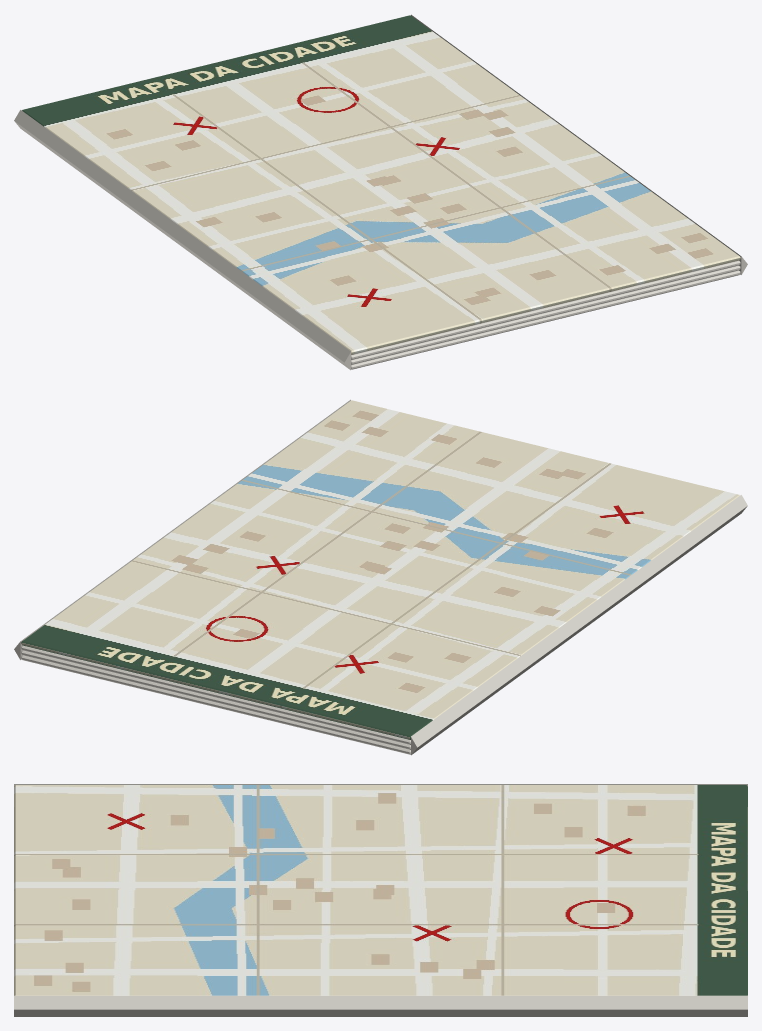
Rendered from mapa_cidade.glb.
3 views of the same model, one above another, from view 1: azimuth 30°, elevation 25°; view 2: azimuth 150°, elevation 25°; view 3: azimuth 270°, elevation 25° (orthographic). The views are drawn at different scales.
Parts seen in each view (by area): view 1: mapa_cidade_mapa_img, mapa_cidade_papel; view 2: mapa_cidade_mapa_img, mapa_cidade_papel; view 3: mapa_cidade_mapa_img, mapa_cidade_papel.
Part boxes in pixels (x1,y1,x2,y2): mapa_cidade_mapa_img: [22, 15, 740, 354]; mapa_cidade_papel: [14, 14, 747, 370]; mapa_cidade_mapa_img: [21, 400, 739, 739]; mapa_cidade_papel: [14, 399, 747, 755]; mapa_cidade_mapa_img: [14, 785, 747, 995]; mapa_cidade_papel: [14, 784, 747, 1016].
Bounding box in the file's own units: 0.155 × 0.007 × 0.22.
2 materials, 1 textured.
